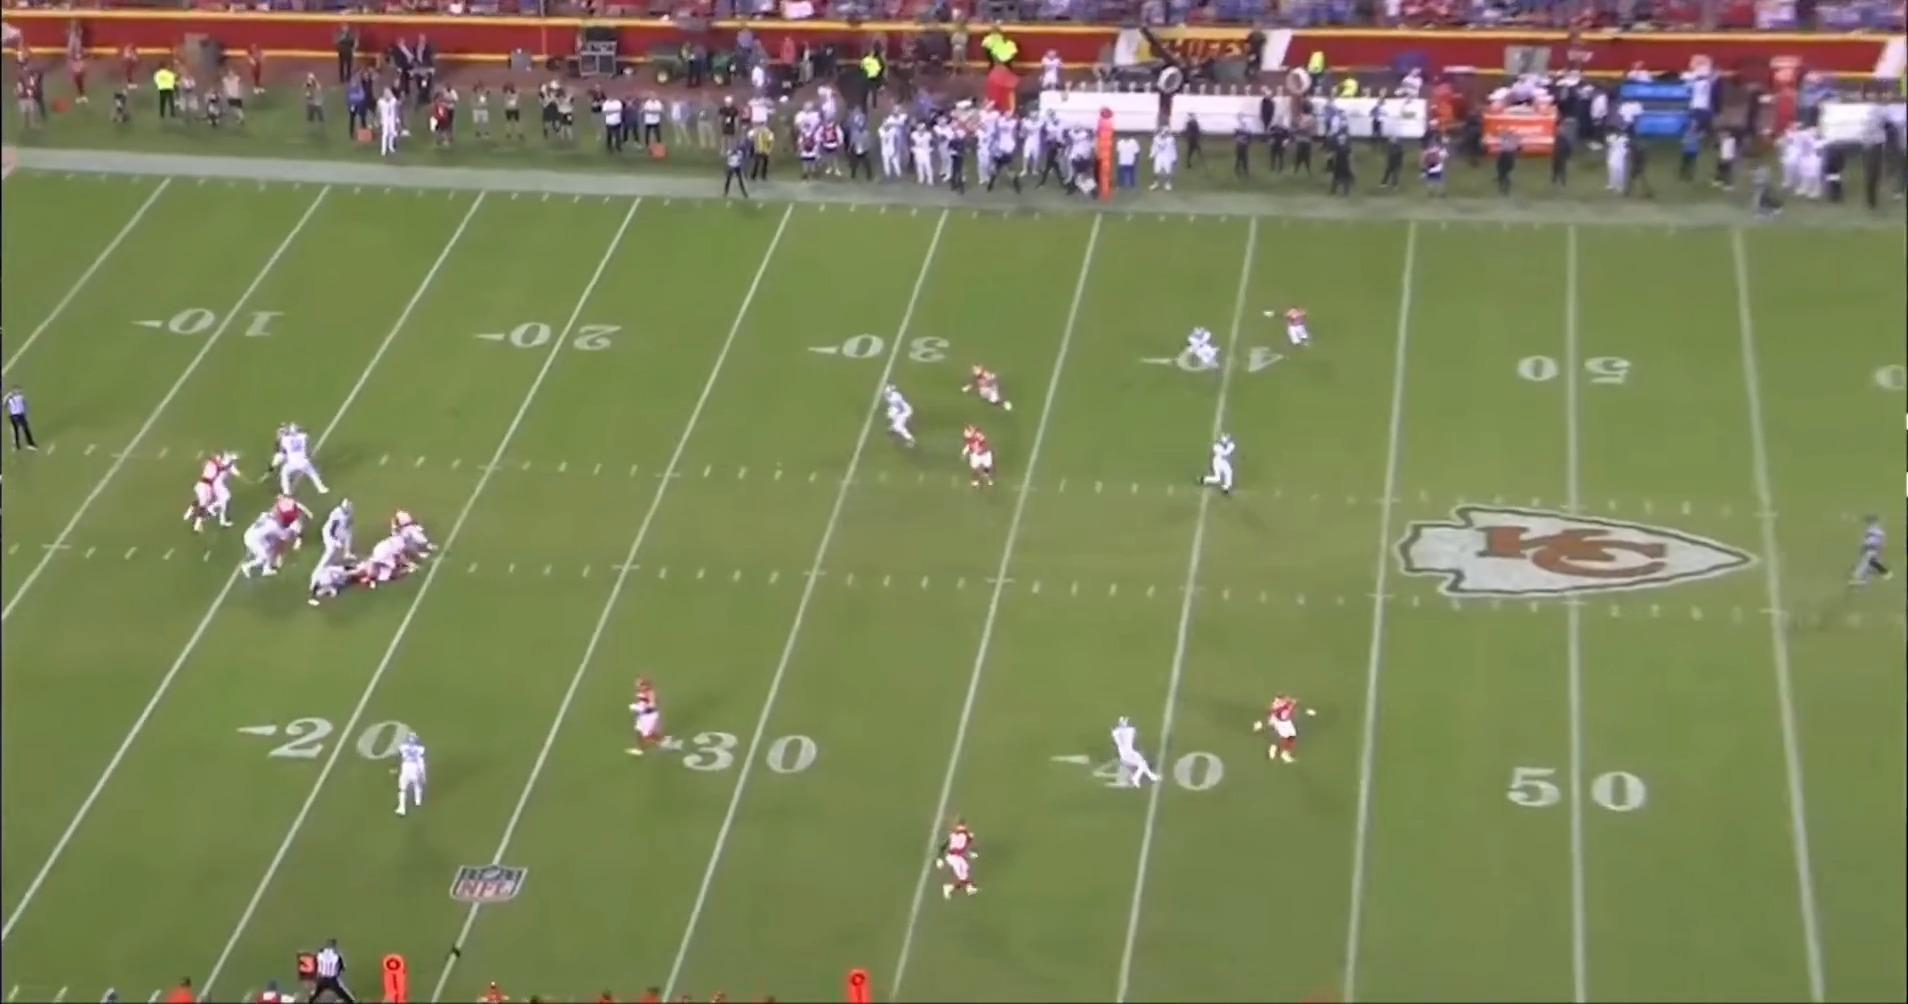defense: (930, 819, 982, 911), (1254, 694, 1315, 771), (621, 677, 674, 762), (386, 505, 433, 571), (964, 361, 1022, 414), (184, 455, 222, 536), (960, 424, 999, 491), (273, 489, 308, 559), (1275, 303, 1317, 354), (269, 420, 303, 478), (357, 557, 408, 590)
oline: (275, 424, 327, 501), (246, 507, 290, 584), (307, 554, 361, 607), (324, 494, 363, 564), (371, 531, 411, 561)
qb: (208, 450, 249, 528)
ref: (1844, 513, 1892, 598), (310, 935, 358, 1004), (6, 381, 40, 457), (715, 139, 753, 204)
skill: (1100, 711, 1158, 793), (387, 730, 429, 822), (1198, 431, 1244, 501), (882, 381, 922, 450), (1181, 324, 1224, 381)
